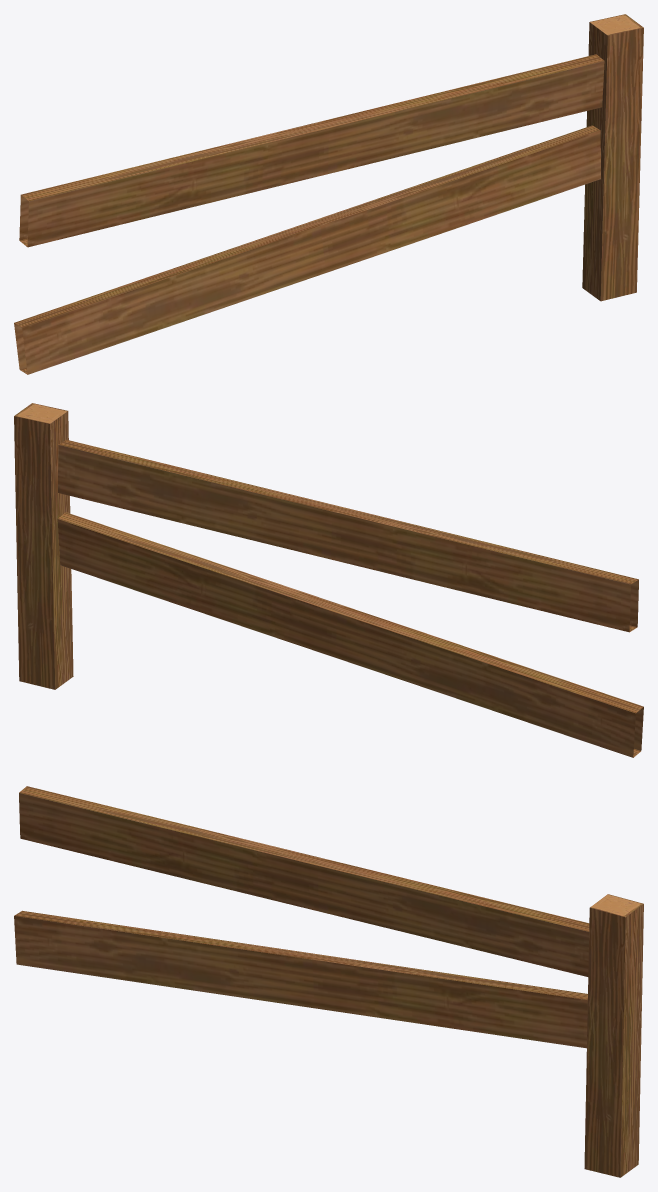
File: fence_wood_ext1.glb
3 renders of one model, top to bottom at view 1: azimuth 30°, elevation 25°; view 2: azimuth 150°, elevation 25°; view 3: azimuth 330°, elevation 25°, orthographic.
Visible parts, largest first — view 1: Prop_WoodenFence_Extension1; view 2: Prop_WoodenFence_Extension1; view 3: Prop_WoodenFence_Extension1.
Boxes of the visible parts, x1,y1,x2,y2 form: Prop_WoodenFence_Extension1: (14,14,643,374); Prop_WoodenFence_Extension1: (14,403,643,757); Prop_WoodenFence_Extension1: (14,786,643,1177).
Bounding box in the file's own units: 2.05 × 0.8381 × 0.1103.
Materials: 1 (1 with a texture image).
